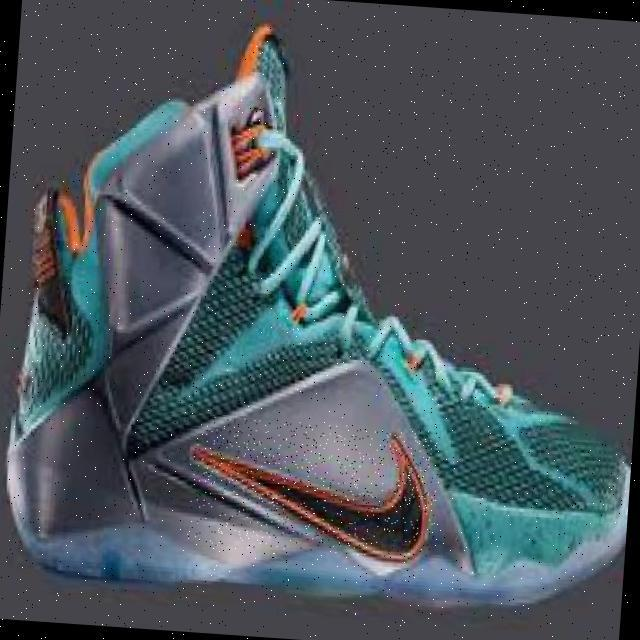Nike: (185, 415, 441, 561)
